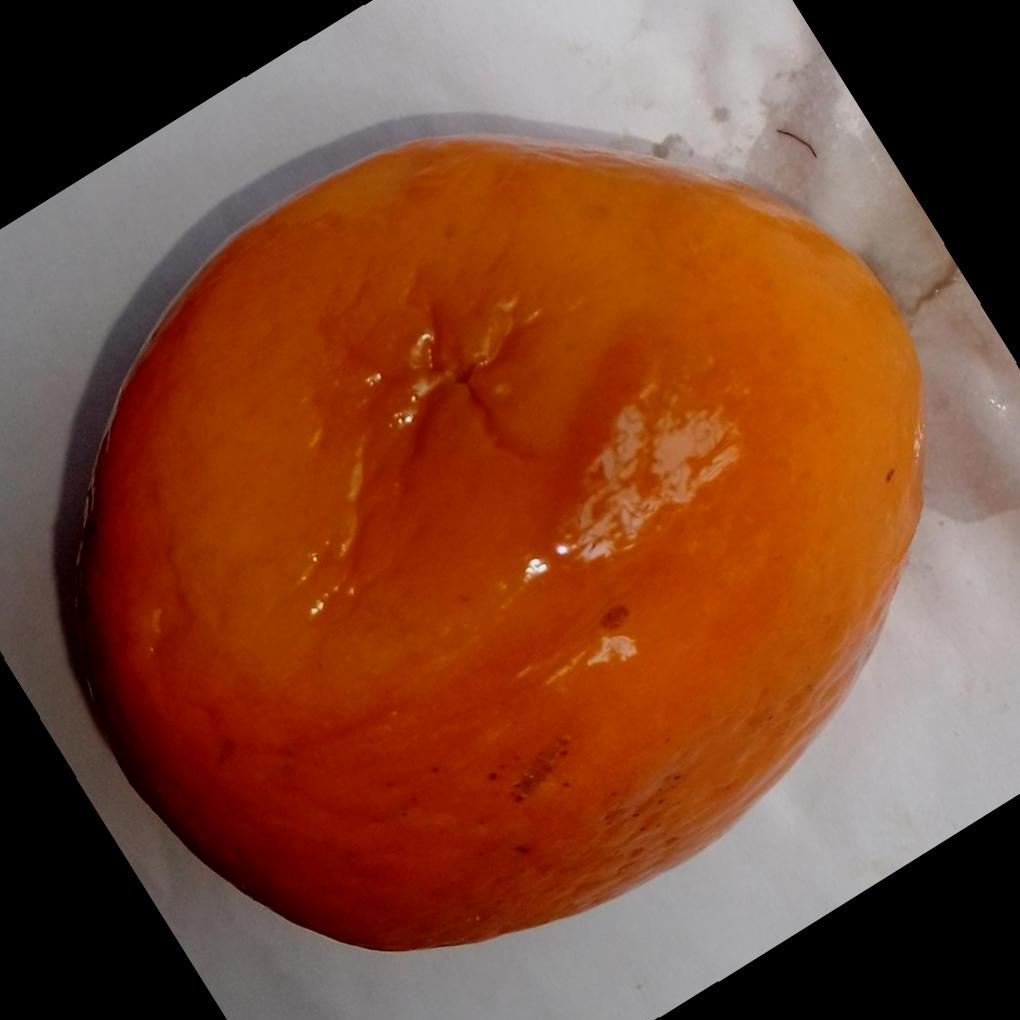FreshOrange: (69, 127, 928, 952)
